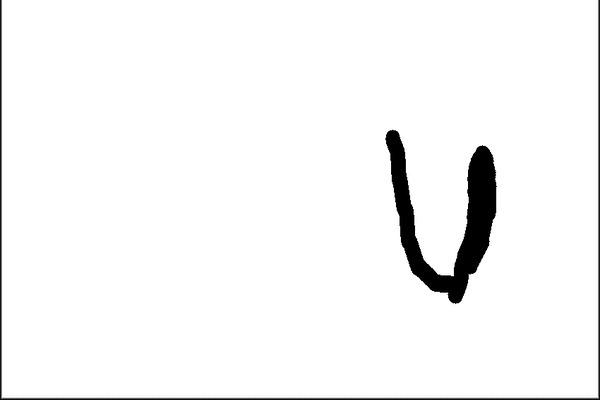U: (372, 126, 500, 307)
